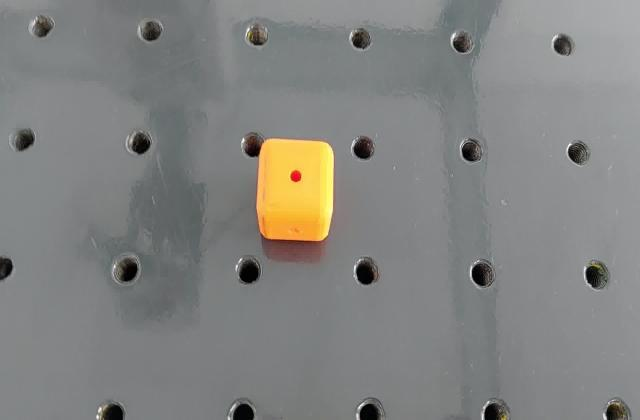cube: (252, 135, 337, 245)
